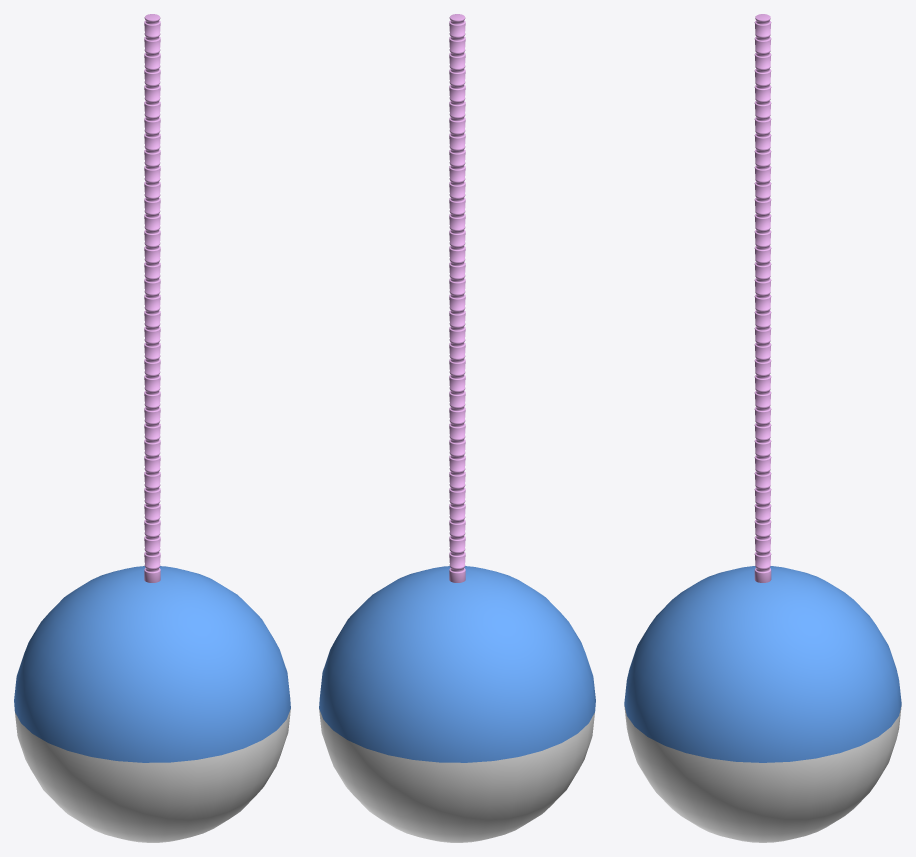
Rendered from blue-trap-circle.glb.
The picture shows the model from 3 angles, left to right: view 1: azimuth 30°, elevation 25°; view 2: azimuth 150°, elevation 25°; view 3: azimuth 270°, elevation 25°; orthographic projection.
Visible parts, largest first — view 1: Trap_circle_blue.001; view 2: Trap_circle_blue.001; view 3: Trap_circle_blue.001.
Part boxes in pixels (bbox=[...]): Trap_circle_blue.001: bbox=[14, 14, 290, 842]; Trap_circle_blue.001: bbox=[319, 14, 595, 842]; Trap_circle_blue.001: bbox=[624, 14, 901, 842].
Size of the model in its own units: 1.71 by 5.52 by 1.71.
Materials: 1 (1 with a texture image).
